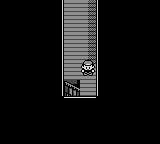main: (81, 61, 95, 76)
no-caminable: (1, 0, 160, 143)
puerta: (64, 80, 80, 97)
